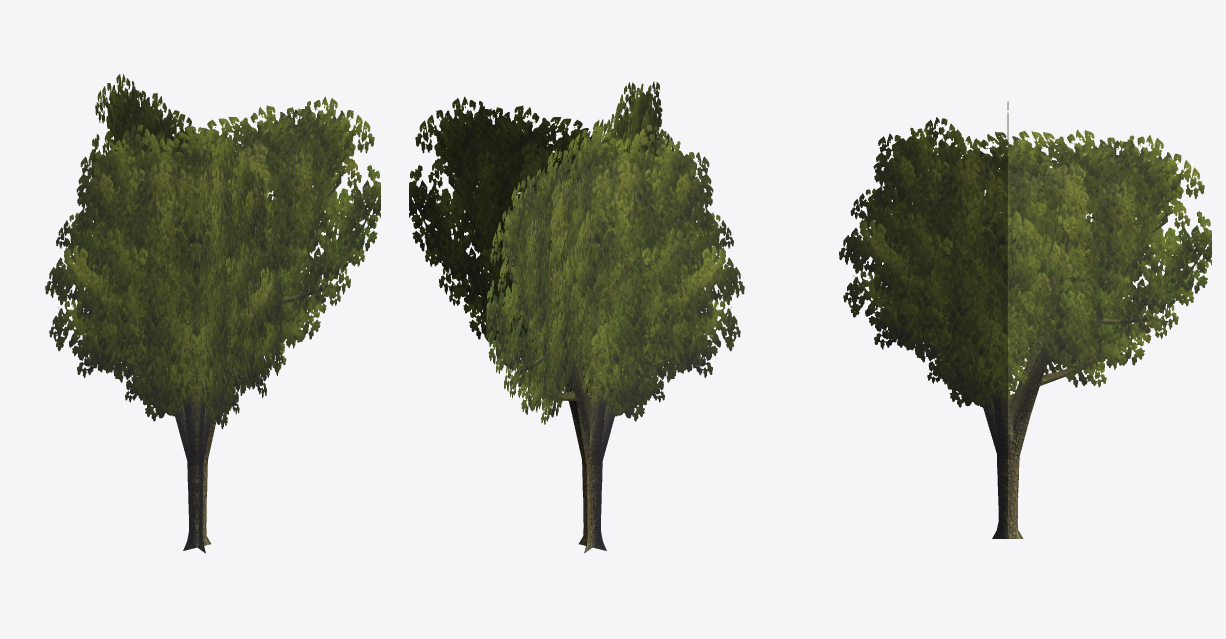
Rendered from Sugar_Maple_Fan_0.obj.
3 renders of one model, left to right at view 1: azimuth 30°, elevation 25°; view 2: azimuth 150°, elevation 25°; view 3: azimuth 270°, elevation 25°, orthographic. The views are drawn at different scales.
Parts seen in each view (by area): view 1: CreateFan; view 2: CreateFan; view 3: CreateFan.
Part boxes in pixels (x1,y1,x2,y2): CreateFan: [45, 74, 380, 553]; CreateFan: [409, 81, 744, 552]; CreateFan: [839, 101, 1211, 538].
Bounding box in the file's own units: 25.27 × 30 × 25.27.
Materials: 1 (1 with a texture image).
